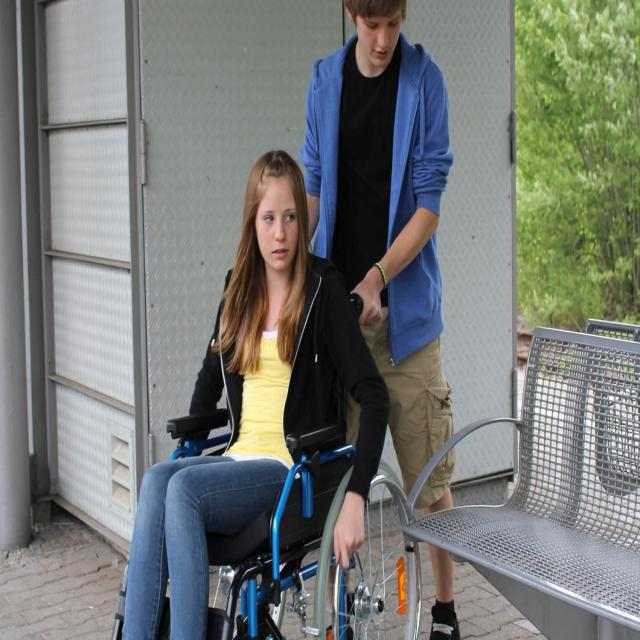wheelchairs: (93, 282, 424, 640)
